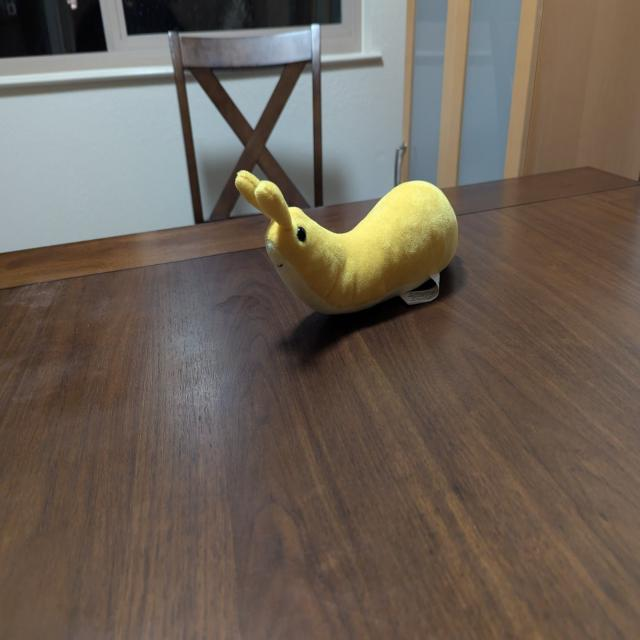banana-slug-toy: (225, 160, 474, 324)
